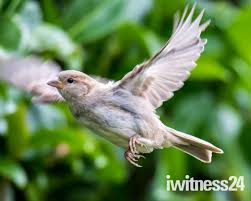hsparrow: (2, 3, 251, 175)
